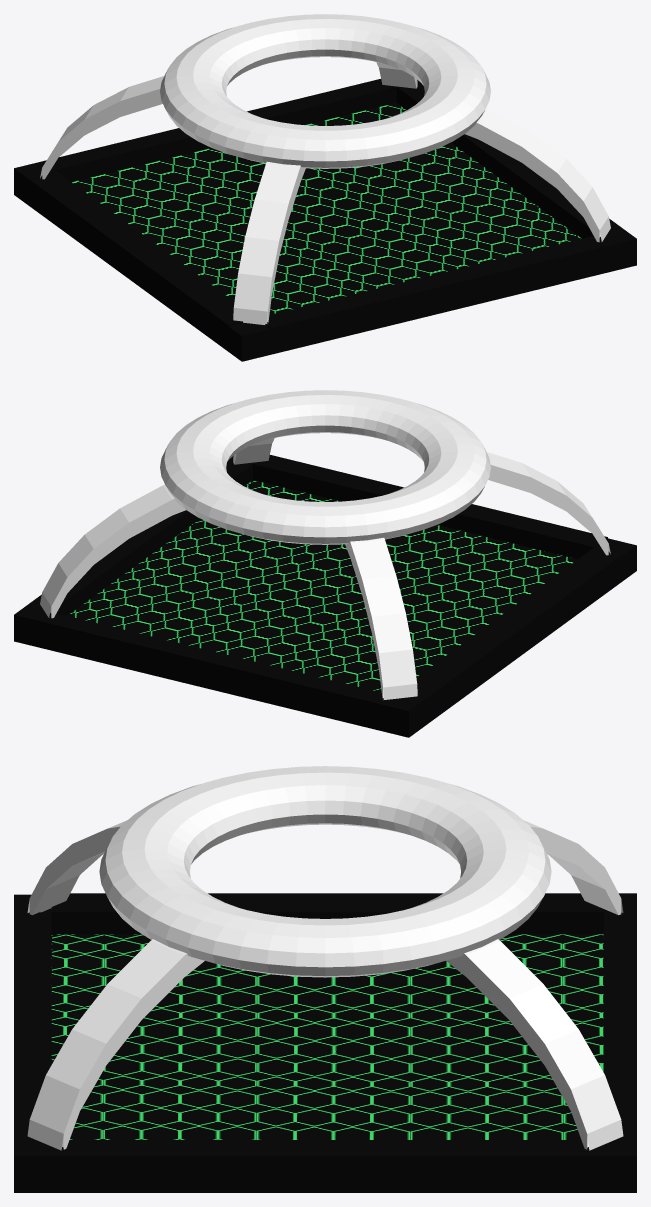
Rendered from map2.glb.
3 renders of one model, top to bottom at view 1: azimuth 30°, elevation 25°; view 2: azimuth 150°, elevation 25°; view 3: azimuth 270°, elevation 25°, orthographic. The views are drawn at different scales.
Parts seen in each view (by area): view 1: Cube, Torus, Arco2, Arco1; view 2: Cube, Torus, Arco1, Arco2; view 3: Cube, Torus, Arco1, Arco2.
Part boxes in pixels (x1,y1,x2,y2): Cube: [14, 79, 636, 361]; Torus: [160, 14, 490, 168]; Arco2: [40, 76, 610, 242]; Arco1: [233, 62, 417, 324]; Cube: [14, 455, 636, 737]; Torus: [160, 390, 490, 544]; Arco1: [40, 452, 610, 618]; Arco2: [233, 438, 417, 699]; Cube: [14, 893, 636, 1192]; Torus: [99, 766, 551, 977]; Arco1: [27, 820, 623, 1150]; Arco2: [27, 820, 623, 1150].
Bounding box in the file's own units: 31 × 11.65 × 31.
4 materials, 1 textured.
